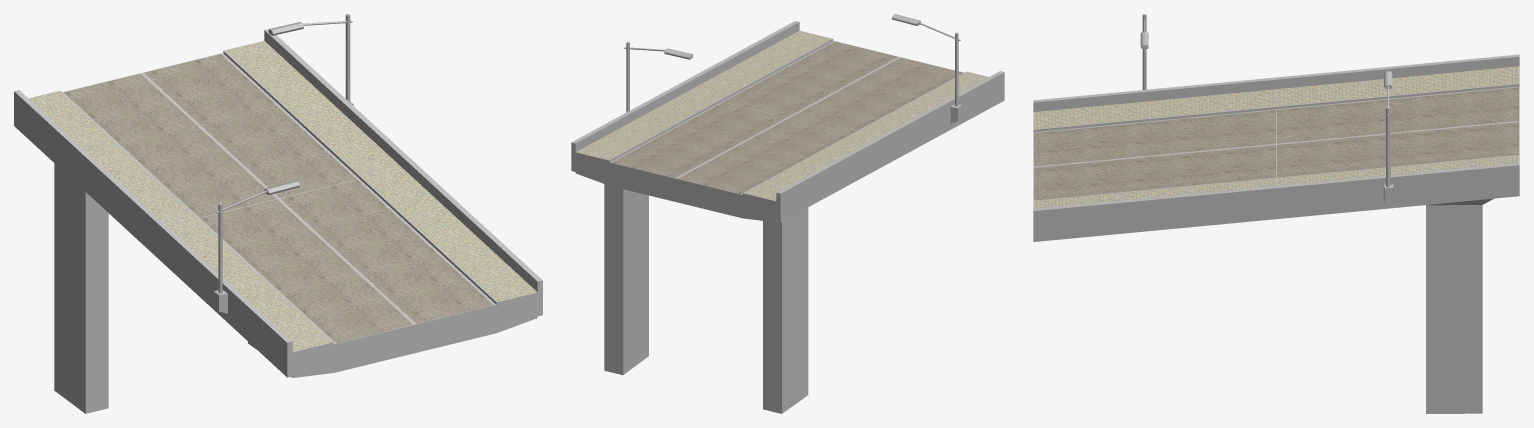
File: road_hi_01a_sl.fbx
3 renders of one model, left to right at view 1: azimuth 30°, elevation 25°; view 2: azimuth 150°, elevation 25°; view 3: azimuth 270°, elevation 25°, orthographic. The views are drawn at different scales.
Parts seen in each view (by area): view 1: road_hi_01a_sl; view 2: road_hi_01a_sl; view 3: road_hi_01a_sl.
Boxes of the visible parts, x1=… form: road_hi_01a_sl: x1=14, y1=14, x2=542, y2=413; road_hi_01a_sl: x1=571, y1=14, x2=1004, y2=413; road_hi_01a_sl: x1=1033, y1=14, x2=1519, y2=413.
Size of the model in its own units: 27.7 by 34.81 by 48.
